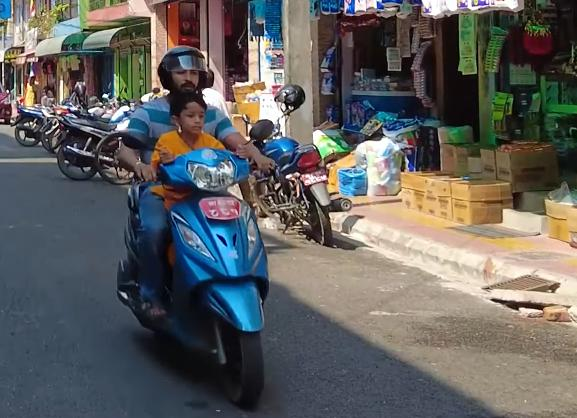bike: (236, 111, 352, 252)
scooter: (96, 113, 285, 418)
